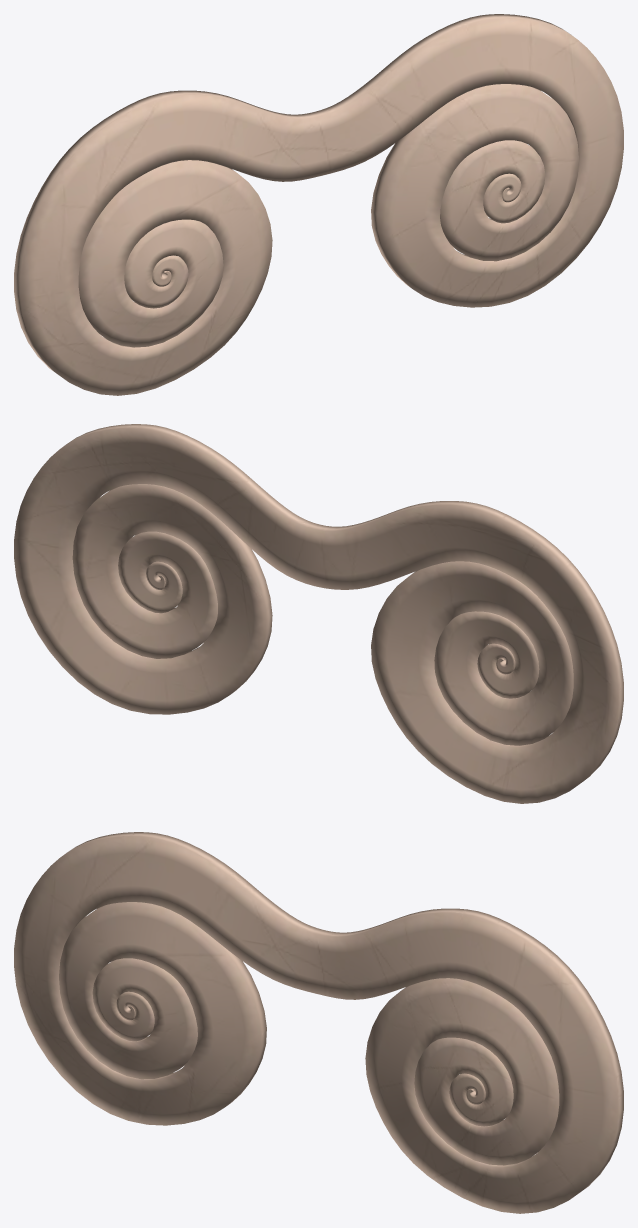
File: tairona_-_pechera_de_oro.glb
3 renders of one model, top to bottom at view 1: azimuth 30°, elevation 25°; view 2: azimuth 150°, elevation 25°; view 3: azimuth 330°, elevation 25°, orthographic.
Parts seen in each view (by area): view 1: Plane; view 2: Plane; view 3: Plane.
Boxes of the visible parts, x1,y1,x2,y2 form: Plane: [14, 14, 623, 395]; Plane: [14, 424, 623, 803]; Plane: [14, 832, 623, 1213].
Bounding box in the file's own units: 5.69 × 2.59 × 0.3854.
Materials: 1 (1 with a texture image).
